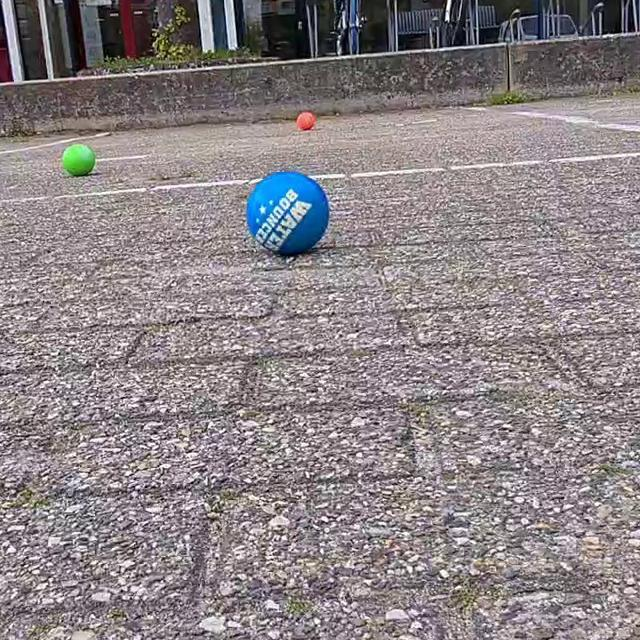ball: (58, 139, 98, 181), (294, 108, 317, 137)
